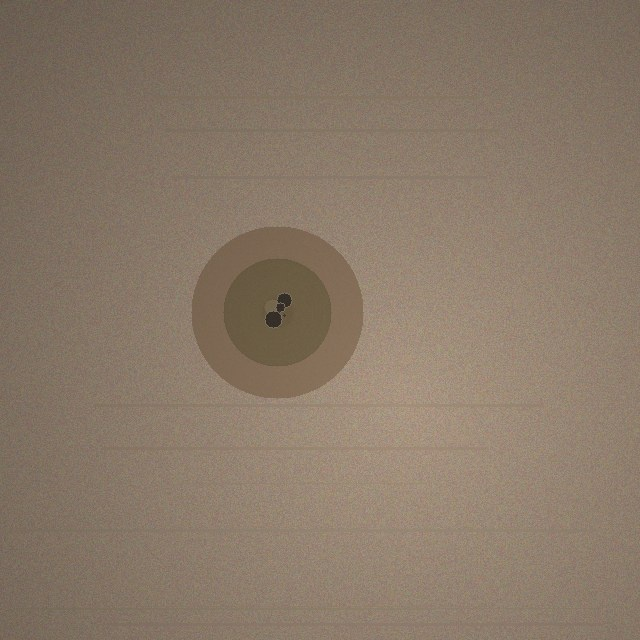shrinkage: (191, 226, 363, 398)
